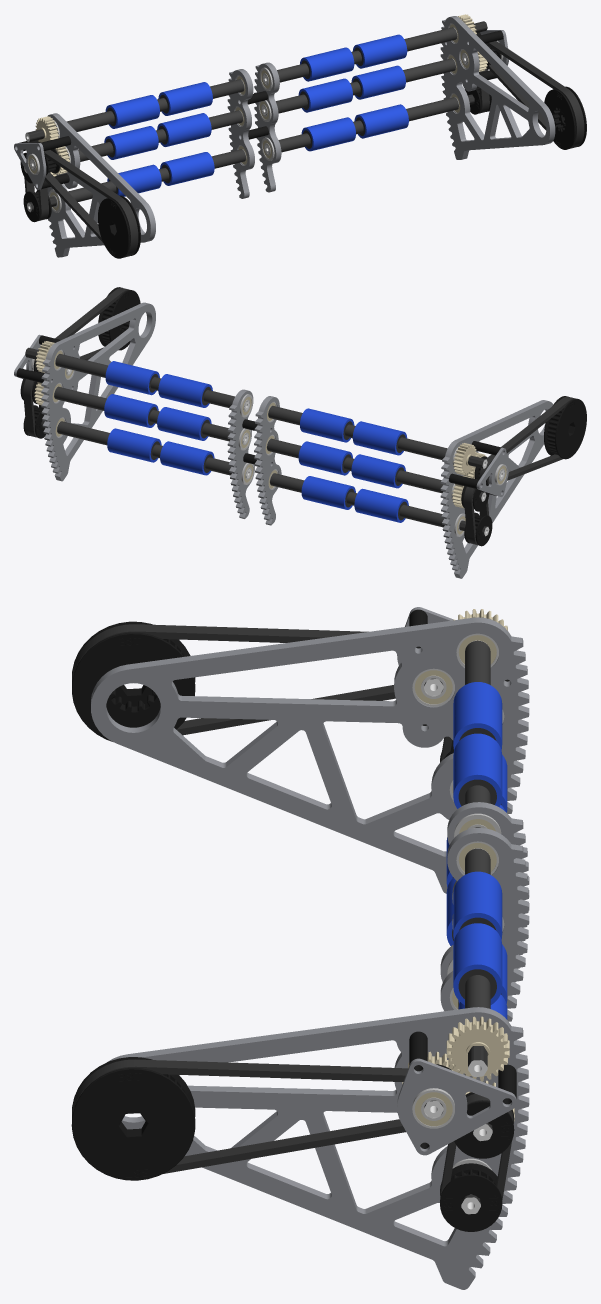
3 views of the same model, one above another, from view 1: azimuth 30°, elevation 25°; view 2: azimuth 150°, elevation 25°; view 3: azimuth 270°, elevation 25° (orthographic). The views are drawn at different scales.
Visible parts, largest first — view 1: Sushi Roller (50A, 3/8" Hex Bore) (×24), Hood Outer Plate (×2), 90t 5mm Belt (×2), Hood Inner Plate (×2), Hood Top Roller Driving Pulley (×2), 3/8" Hex Bore Custom Spacer (0.525" OD,2.5" L) (×5), 3/8" Hex Bore Custom Spacer (0.525" OD,1.625" L) (×6), Hood Top Rollers Powertrain Outer Plate, Hood Extra Roller Pulley, 24t Aluminum Spur Gear (20 DP, 3/8" Hex Bore), 35t 5mm Belt; view 2: Sushi Roller (50A, 3/8" Hex Bore) (×24), Hood Outer Plate (×2), 3/8" Hex Bore Custom Spacer (0.525" OD,2.5" L) (×6), Hood Inner Plate (×2), Hood Top Roller Driving Pulley (×2), 90t 5mm Belt (×2), 3/8" Hex Bore Custom Spacer (0.525" OD,1.625" L) (×4), 35t 5mm Belt (×2), Hood Top Rollers Powertrain Outer Plate, 24t Aluminum Spur Gear (20 DP, 3/8" Hex Bore), Hood Extra Roller Pulley; view 3: Hood Outer Plate (×2), Hood Top Roller Driving Pulley (×2), 90t 5mm Belt (×2), Sushi Roller (50A, 3/8" Hex Bore) (×8), Hood Inner Plate (×2), Hood Top Rollers Powertrain Outer Plate, Hood Extra Roller Pulley (×2), 24t Aluminum Spur Gear (20 DP, 3/8" Hex Bore), 3/8" Rounded Hex (10.25mm) ID Bearing (0.875" OD, 0.281" WD, (×2), 3/8" Hex Bore Custom Spacer (0.525" OD,2.5" L), 35t 5mm Belt.
Boxes of the visible parts, bbox=[...] form: Sushi Roller (50A, 3/8" Hex Bore) (×24): bbox=[104, 34, 408, 196]; Hood Outer Plate (×2): bbox=[47, 16, 555, 257]; 90t 5mm Belt (×2): bbox=[44, 41, 584, 257]; Hood Inner Plate (×2): bbox=[227, 62, 281, 198]; Hood Top Roller Driving Pulley (×2): bbox=[98, 86, 586, 258]; 3/8" Hex Bore Custom Spacer (0.525" OD,2.5" L) (×5): bbox=[66, 27, 458, 201]; 3/8" Hex Bore Custom Spacer (0.525" OD,1.625" L) (×6): bbox=[209, 63, 310, 168]; Hood Top Rollers Powertrain Outer Plate: bbox=[14, 143, 46, 189]; Hood Extra Roller Pulley: bbox=[23, 190, 51, 222]; 24t Aluminum Spur Gear (20 DP, 3/8" Hex Bore): bbox=[35, 116, 59, 142]; 35t 5mm Belt: bbox=[24, 177, 48, 220]; Sushi Roller (50A, 3/8" Hex Bore) (×24): bbox=[104, 361, 408, 522]; Hood Outer Plate (×2): bbox=[41, 302, 553, 578]; 3/8" Hex Bore Custom Spacer (0.525" OD,2.5" L) (×6): bbox=[54, 354, 447, 527]; Hood Inner Plate (×2): bbox=[227, 389, 281, 525]; Hood Top Roller Driving Pulley (×2): bbox=[98, 287, 586, 459]; 90t 5mm Belt (×2): bbox=[33, 288, 575, 484]; 3/8" Hex Bore Custom Spacer (0.525" OD,1.625" L) (×4): bbox=[203, 390, 304, 492]; 35t 5mm Belt (×2): bbox=[23, 371, 489, 544]; Hood Top Rollers Powertrain Outer Plate: bbox=[476, 447, 509, 496]; 24t Aluminum Spur Gear (20 DP, 3/8" Hex Bore): bbox=[453, 443, 476, 475]; Hood Extra Roller Pulley: bbox=[464, 512, 492, 546]; Hood Outer Plate (×2): bbox=[91, 617, 529, 1289]; Hood Top Roller Driving Pulley (×2): bbox=[71, 621, 195, 1180]; 90t 5mm Belt (×2): bbox=[72, 624, 408, 1173]; Sushi Roller (50A, 3/8" Hex Bore) (×8): bbox=[453, 682, 502, 1004]; Hood Inner Plate (×2): bbox=[440, 802, 529, 1021]; Hood Top Rollers Powertrain Outer Plate: bbox=[397, 1058, 516, 1155]; Hood Extra Roller Pulley (×2): bbox=[440, 1092, 514, 1231]; 24t Aluminum Spur Gear (20 DP, 3/8" Hex Bore): bbox=[446, 1016, 509, 1081]; 3/8" Rounded Hex (10.25mm) ID Bearing (0.875" OD, 0.281" WD, (×2): bbox=[412, 668, 454, 1128]; 3/8" Hex Bore Custom Spacer (0.525" OD,2.5" L): bbox=[465, 640, 490, 684]; 35t 5mm Belt: bbox=[440, 1093, 513, 1200].
Bounding box in the file's own units: 0.5636 × 0.1593 × 0.2378.
